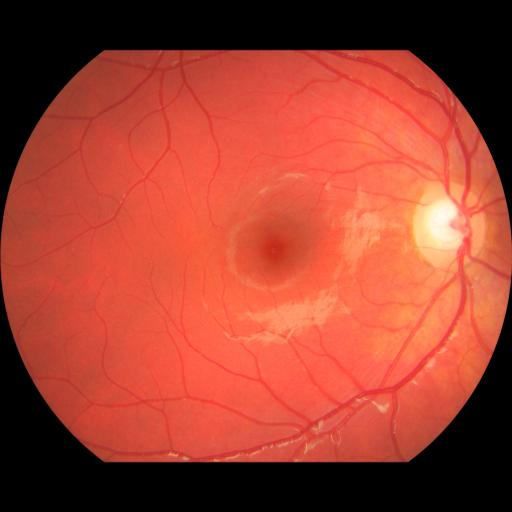Optic Cup: (429, 200, 466, 247)
Optic Disc: (414, 183, 486, 271)
